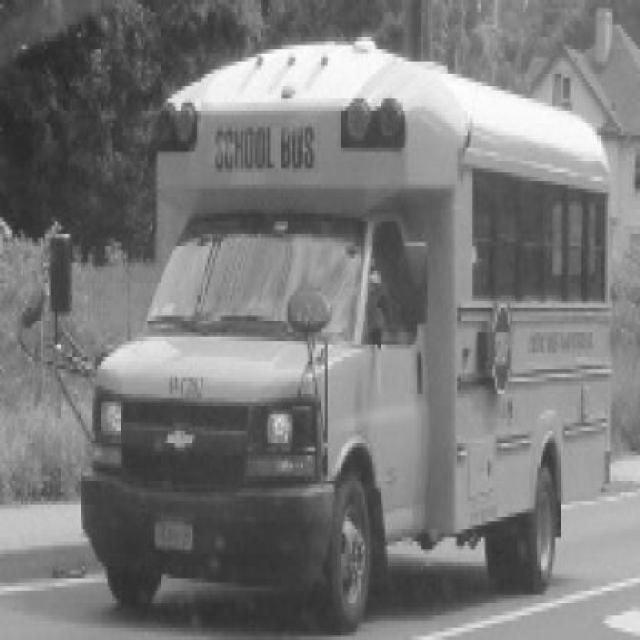Bus- Small: (47, 37, 614, 637)
